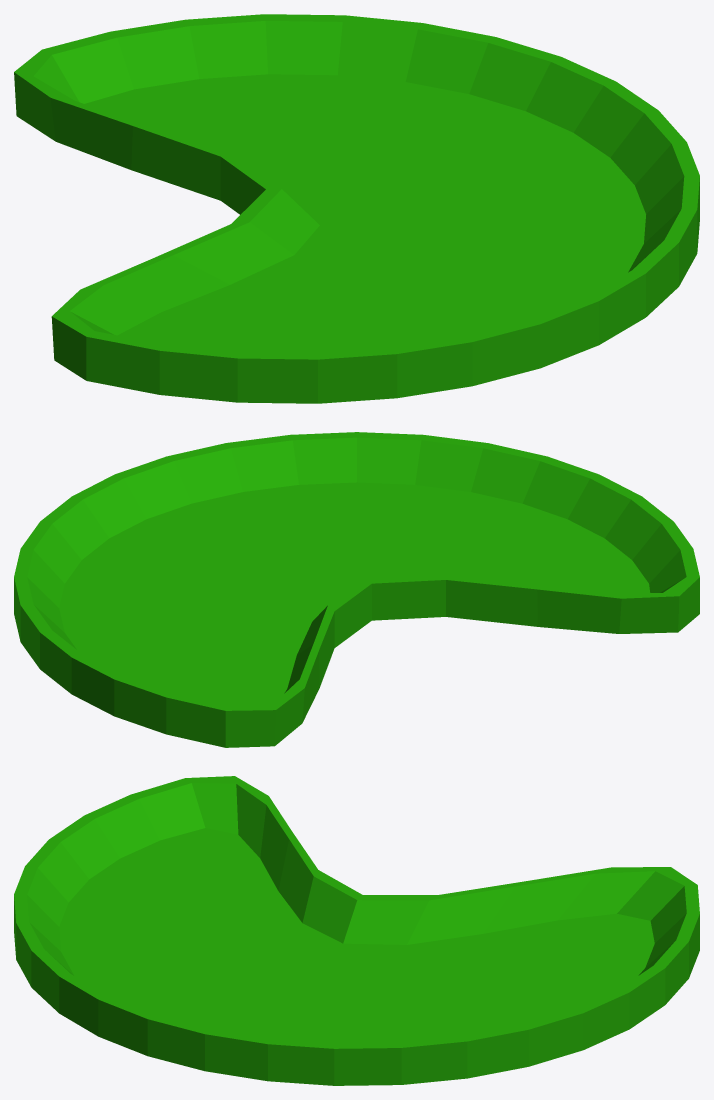
Rendered from waterlily_half.obj.
The picture shows the model from 3 angles, top to bottom: view 1: azimuth 30°, elevation 25°; view 2: azimuth 150°, elevation 25°; view 3: azimuth 270°, elevation 25°; orthographic projection. The views are drawn at different scales.
Parts seen in each view (by area): view 1: Waterlily_Half_Cylinder.009; view 2: Waterlily_Half_Cylinder.009; view 3: Waterlily_Half_Cylinder.009.
Part boxes in pixels (bbox=[...]): Waterlily_Half_Cylinder.009: bbox=[14, 14, 699, 403]; Waterlily_Half_Cylinder.009: bbox=[14, 432, 699, 747]; Waterlily_Half_Cylinder.009: bbox=[14, 776, 699, 1085].
Bounding box in the file's own units: 0.3684 × 0.0233 × 0.3914.
